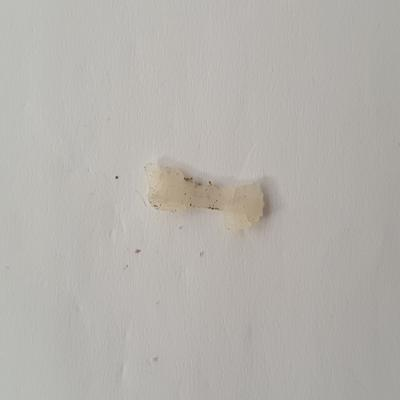plastic: (134, 150, 271, 231)
